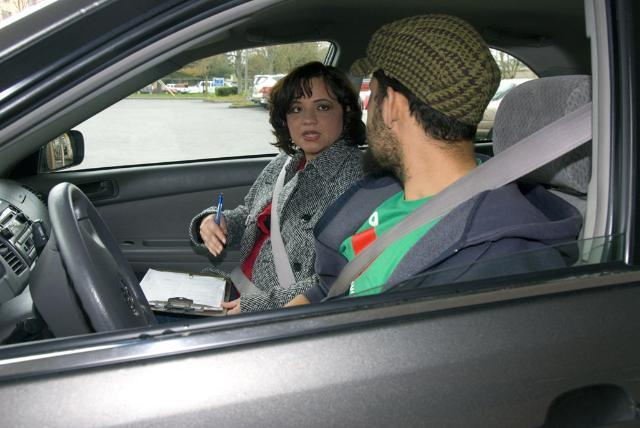SafeDriving: (312, 99, 336, 115), (284, 100, 306, 116)
Seatbelt: (319, 103, 595, 301), (225, 154, 298, 298)
